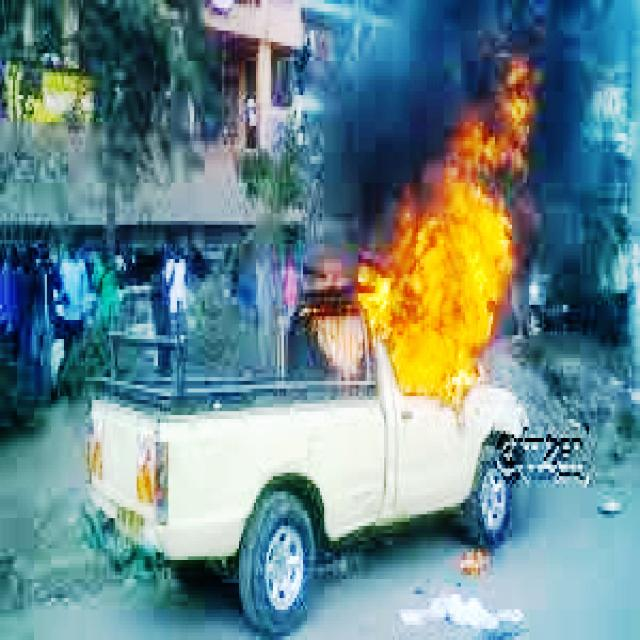api: (359, 58, 543, 405)
